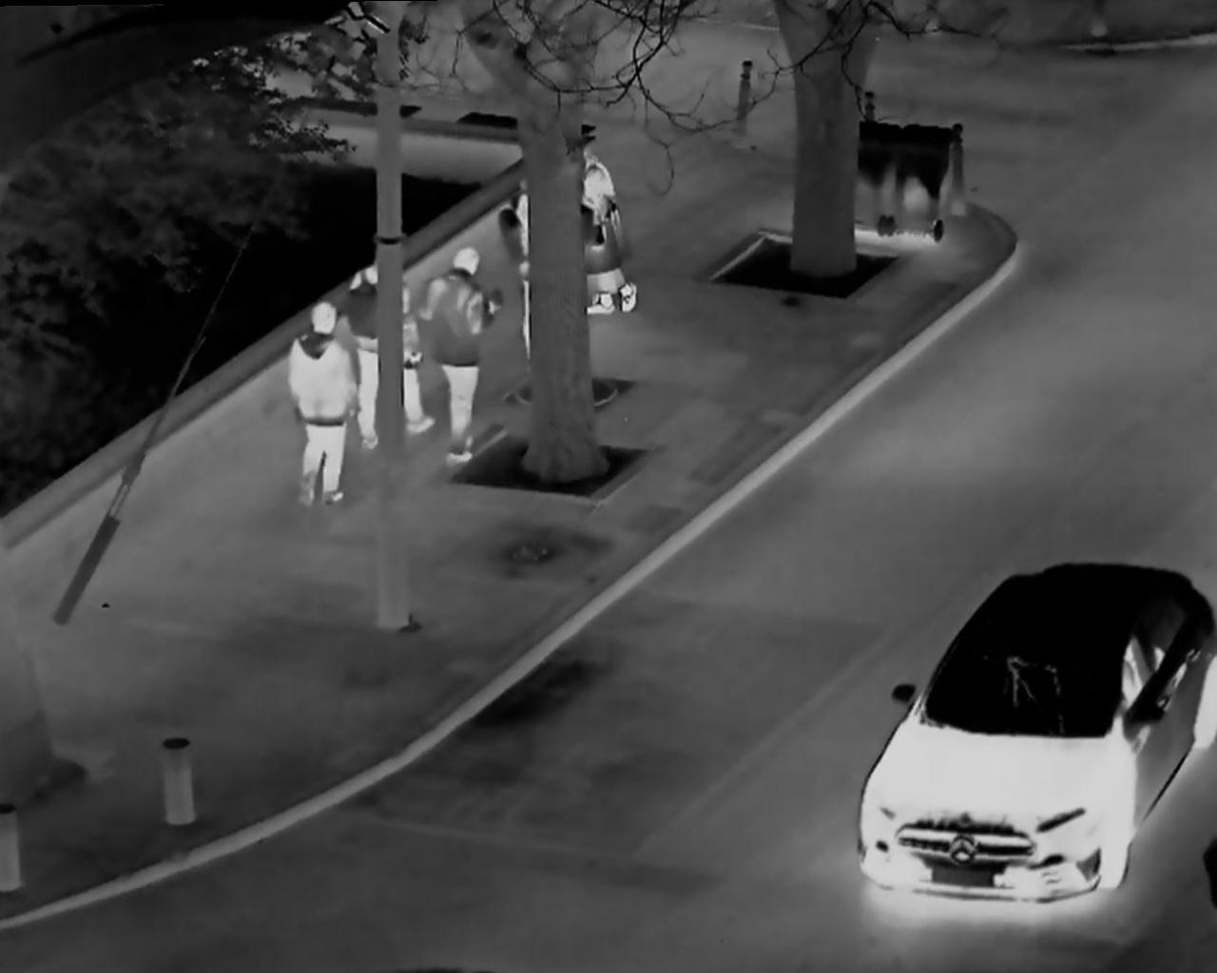person: (349, 228, 427, 461), (568, 133, 658, 325), (281, 289, 358, 513), (422, 236, 495, 457)
